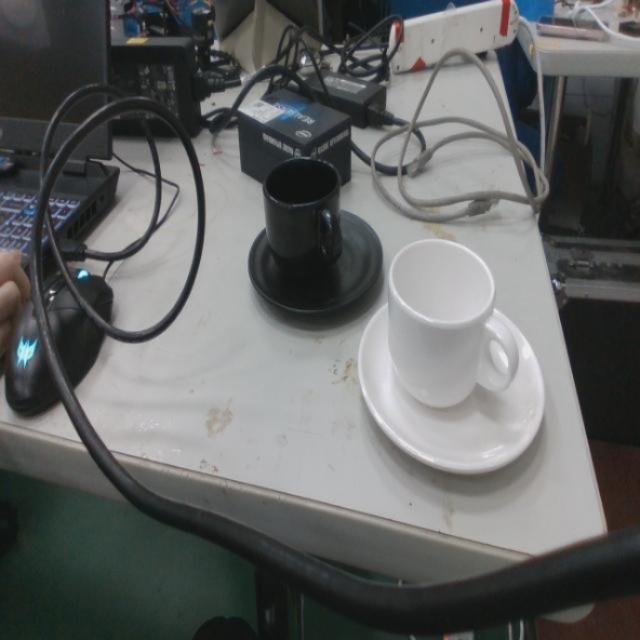black: (245, 154, 384, 323)
white: (355, 234, 547, 481)
